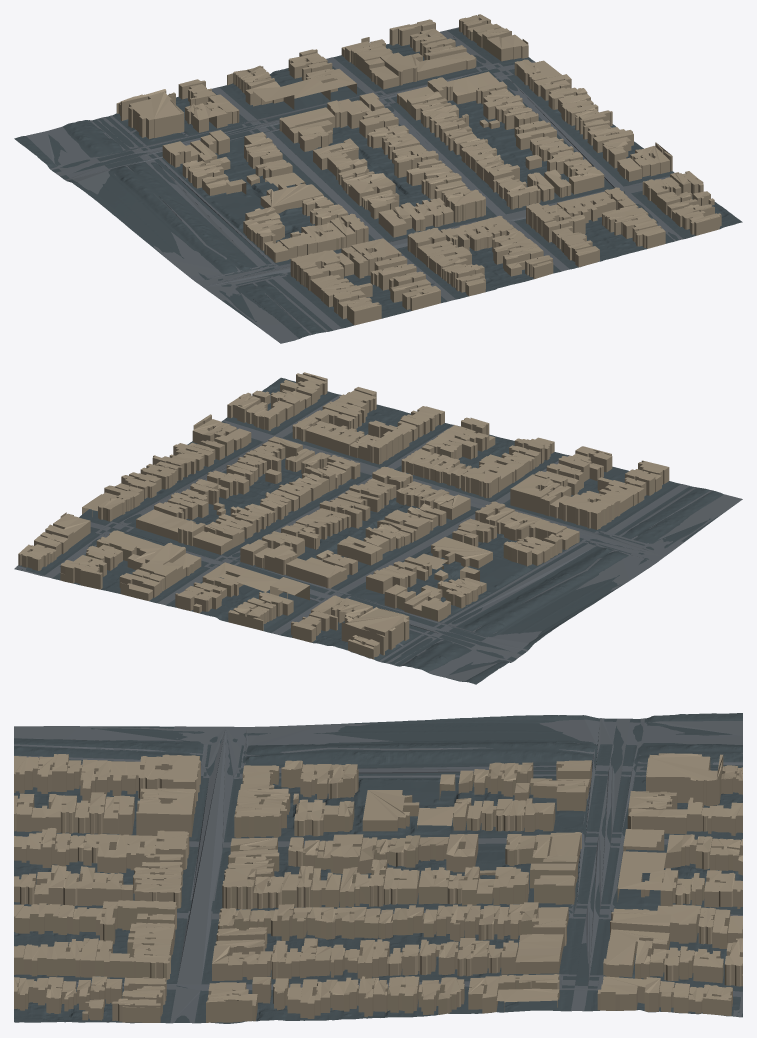
Rendered from epsg26910-1423-10890.lod0.glb.
The picture shows the model from 3 angles, top to bottom: view 1: azimuth 30°, elevation 25°; view 2: azimuth 150°, elevation 25°; view 3: azimuth 270°, elevation 25°; orthographic projection. The views are drawn at different scales.
Visible parts, largest first — view 1: epsg26910-1423-10890-lod0; view 2: epsg26910-1423-10890-lod0; view 3: epsg26910-1423-10890-lod0.
Boxes of the visible parts, box(x1,y1,x2,y2) form: epsg26910-1423-10890-lod0: box(14, 14, 742, 343); epsg26910-1423-10890-lod0: box(14, 372, 742, 684); epsg26910-1423-10890-lod0: box(14, 713, 742, 1023).
Bounding box in the file's own units: 384 × 25.29 × 384.
